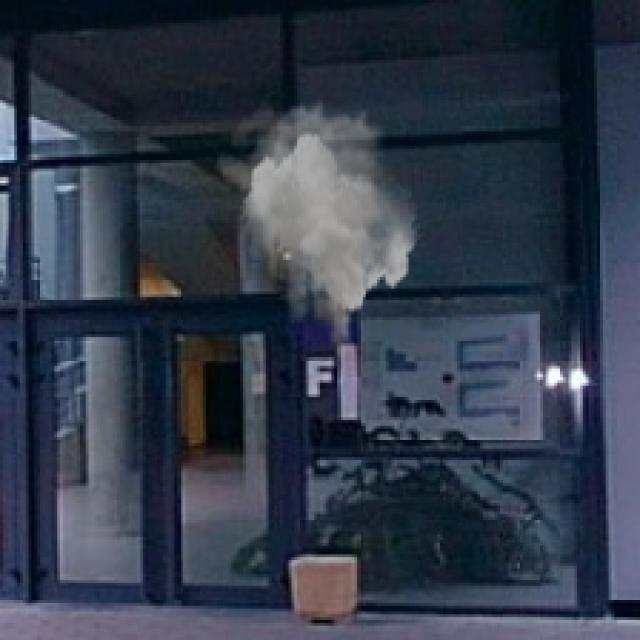smoke: (214, 97, 420, 363)
